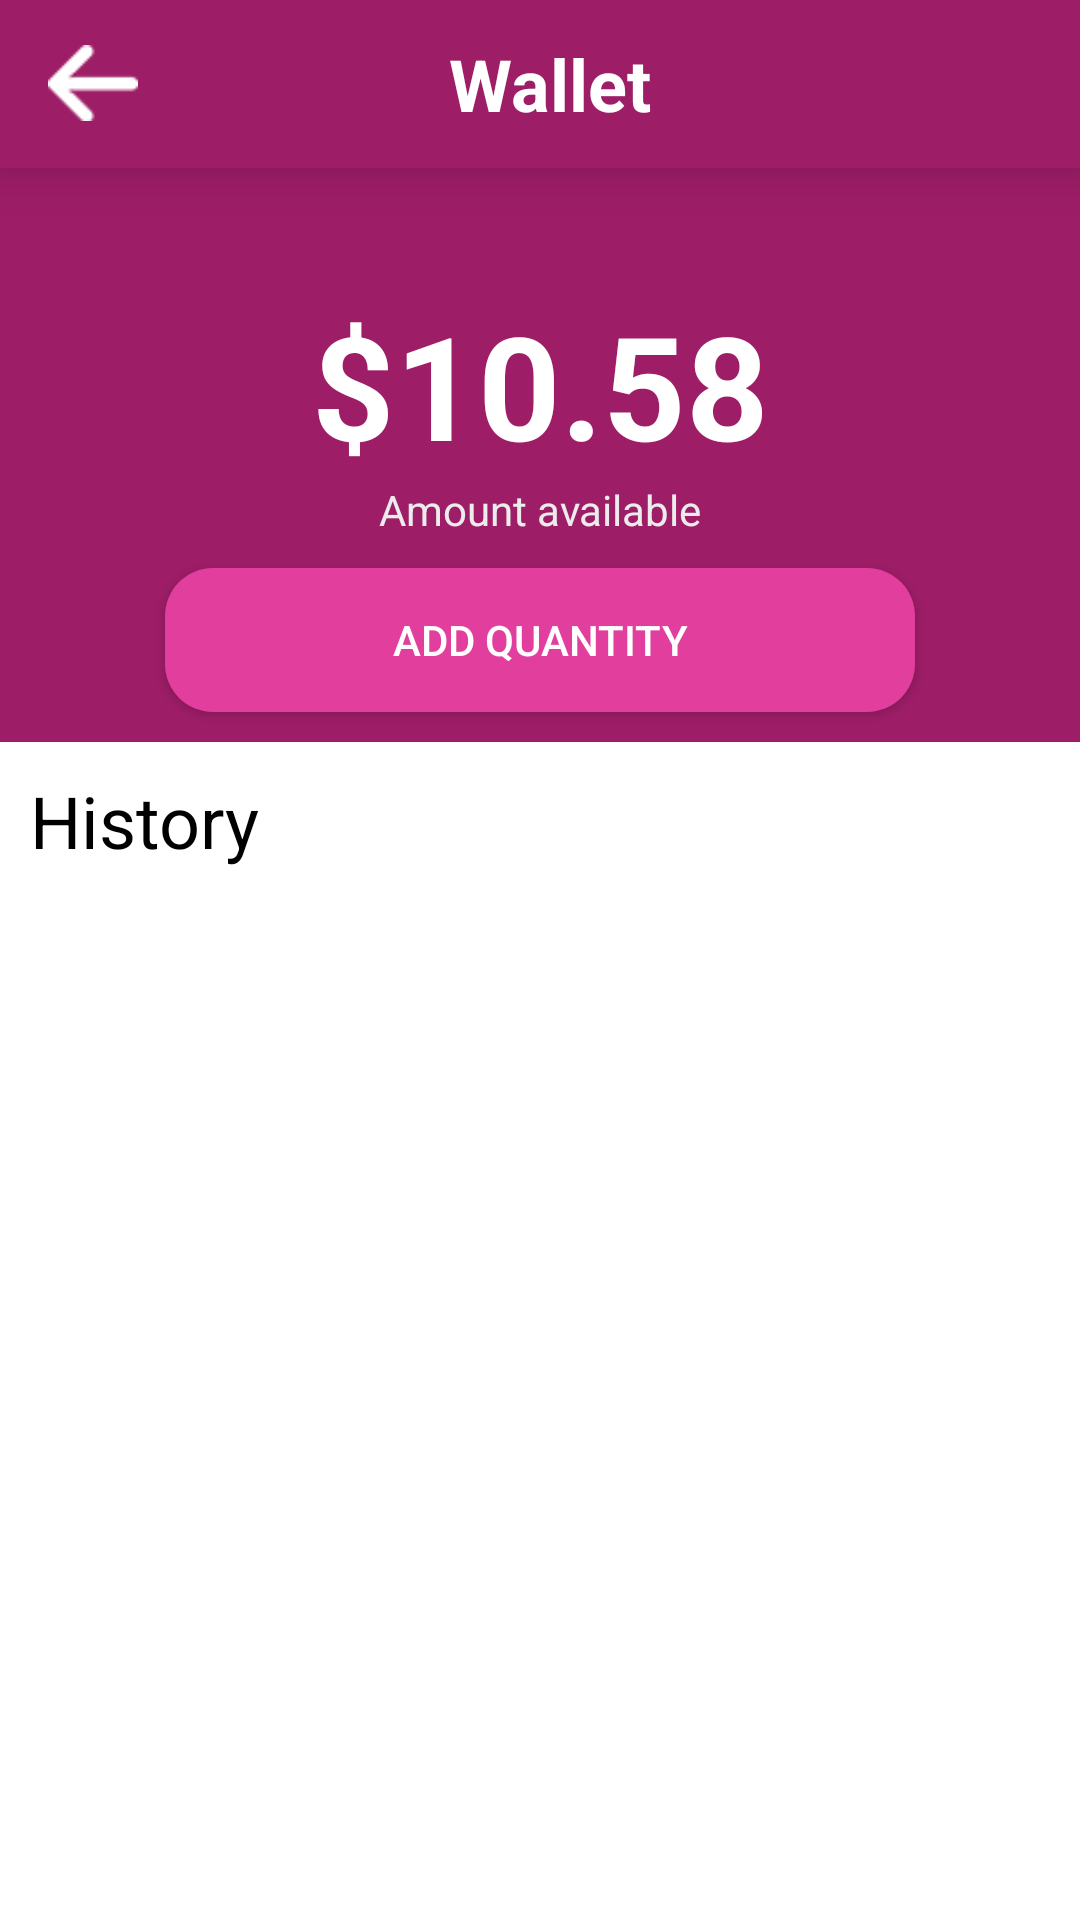

Where to tap for icons on this 1080px x 1920px app screen, as (x,y):
back arrow three: (93,83)
